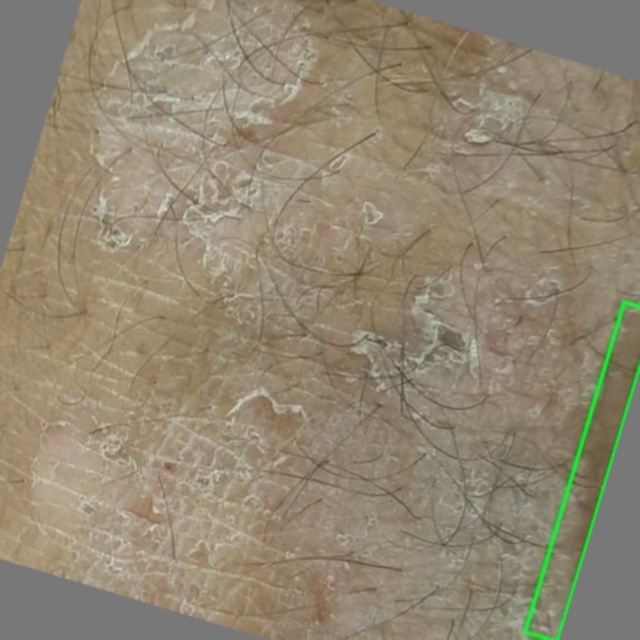Tinea Corporis: (525, 302, 639, 639)
